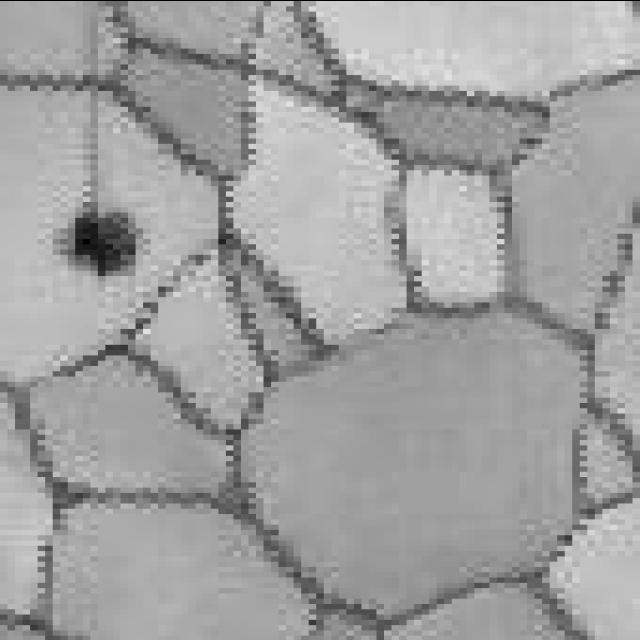good_void: (53, 201, 157, 278)
